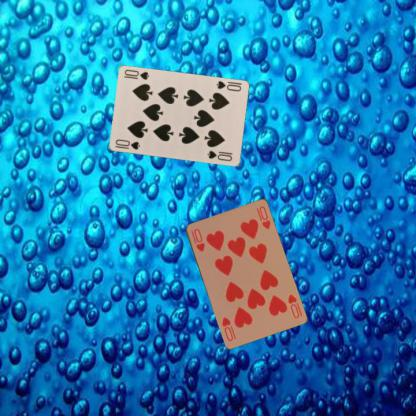10h: (188, 226, 206, 253), (285, 291, 300, 320)
10s: (213, 78, 242, 92), (113, 137, 141, 151)
